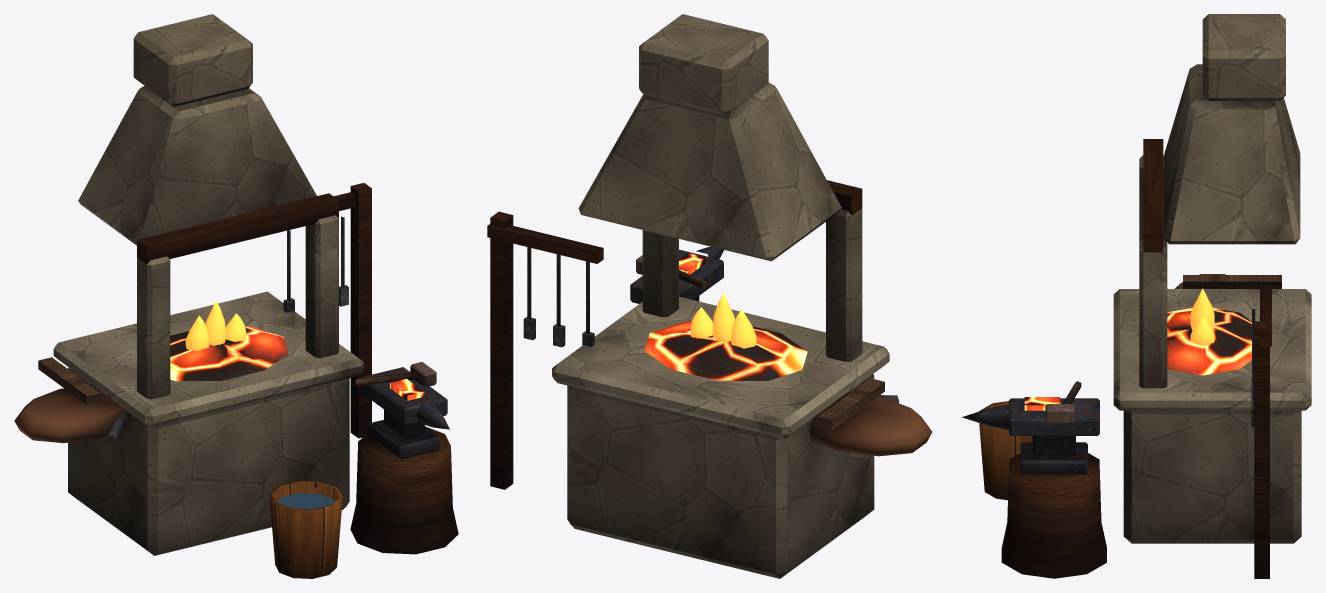
File: interior_forge.glb
3 renders of one model, left to right at view 1: azimuth 30°, elevation 25°; view 2: azimuth 150°, elevation 25°; view 3: azimuth 270°, elevation 25°, orthographic. The views are drawn at different scales.
Visible parts, largest first — view 1: interior_forge; view 2: interior_forge; view 3: interior_forge.
Part boxes in pixels (<box>): interior_forge: <box>14,14,458,578</box>; interior_forge: <box>487,14,932,578</box>; interior_forge: <box>962,14,1311,578</box>.
Size of the model in its own units: 2.21 by 2.59 by 1.77.
9 materials, 5 textured.
